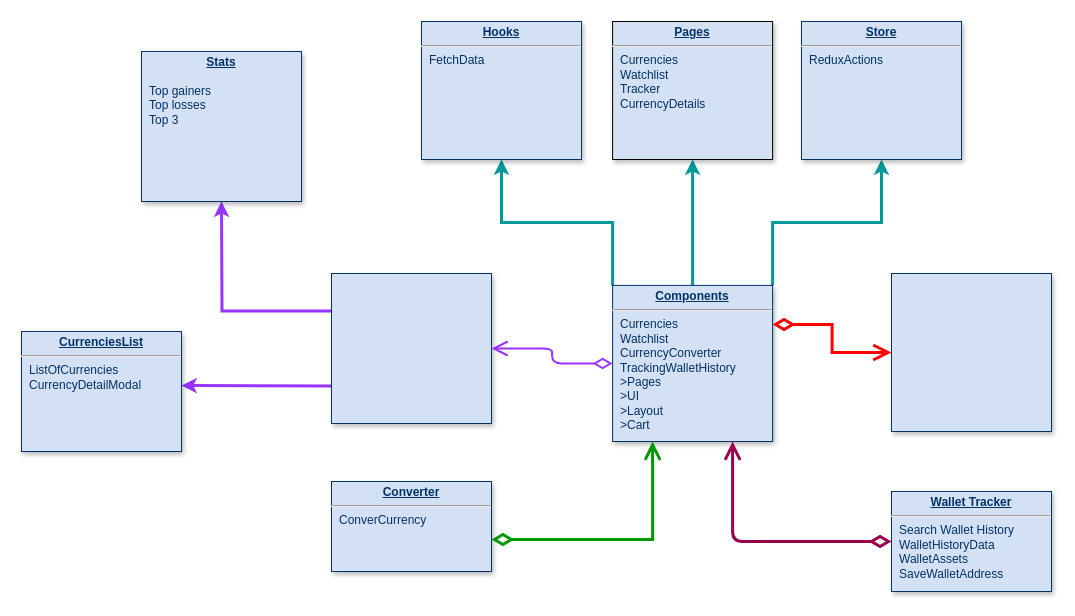
The diagram is 1075 pixels wide and 616 high, and some of its shapes have lost their labels. Here are the shapes that lost their labels. From the top down, the centre of each, then its label:
(412,349): Currencies Today's stats CurrenciesTable 50
(972,353): Watchlist WatchlistTable
